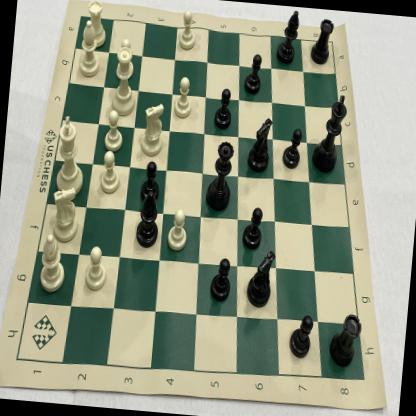bishop: (37, 233, 69, 293), (73, 20, 106, 78), (133, 190, 163, 252), (274, 7, 302, 67)
king: (310, 92, 350, 177), (52, 115, 89, 196)
knight: (244, 245, 280, 311), (47, 184, 83, 244), (245, 114, 274, 174), (139, 100, 168, 158)
pawn: (285, 312, 316, 362), (80, 244, 110, 294), (96, 150, 123, 197), (208, 256, 234, 304), (102, 108, 127, 154), (241, 206, 265, 253), (176, 6, 200, 53), (172, 76, 196, 123), (165, 207, 189, 254), (114, 37, 137, 83), (280, 127, 304, 171), (212, 86, 235, 131), (138, 160, 162, 203), (243, 52, 266, 96)
queen: (204, 139, 238, 215), (110, 46, 141, 118)
rook: (326, 310, 364, 370), (80, 0, 113, 51), (310, 16, 336, 67)
